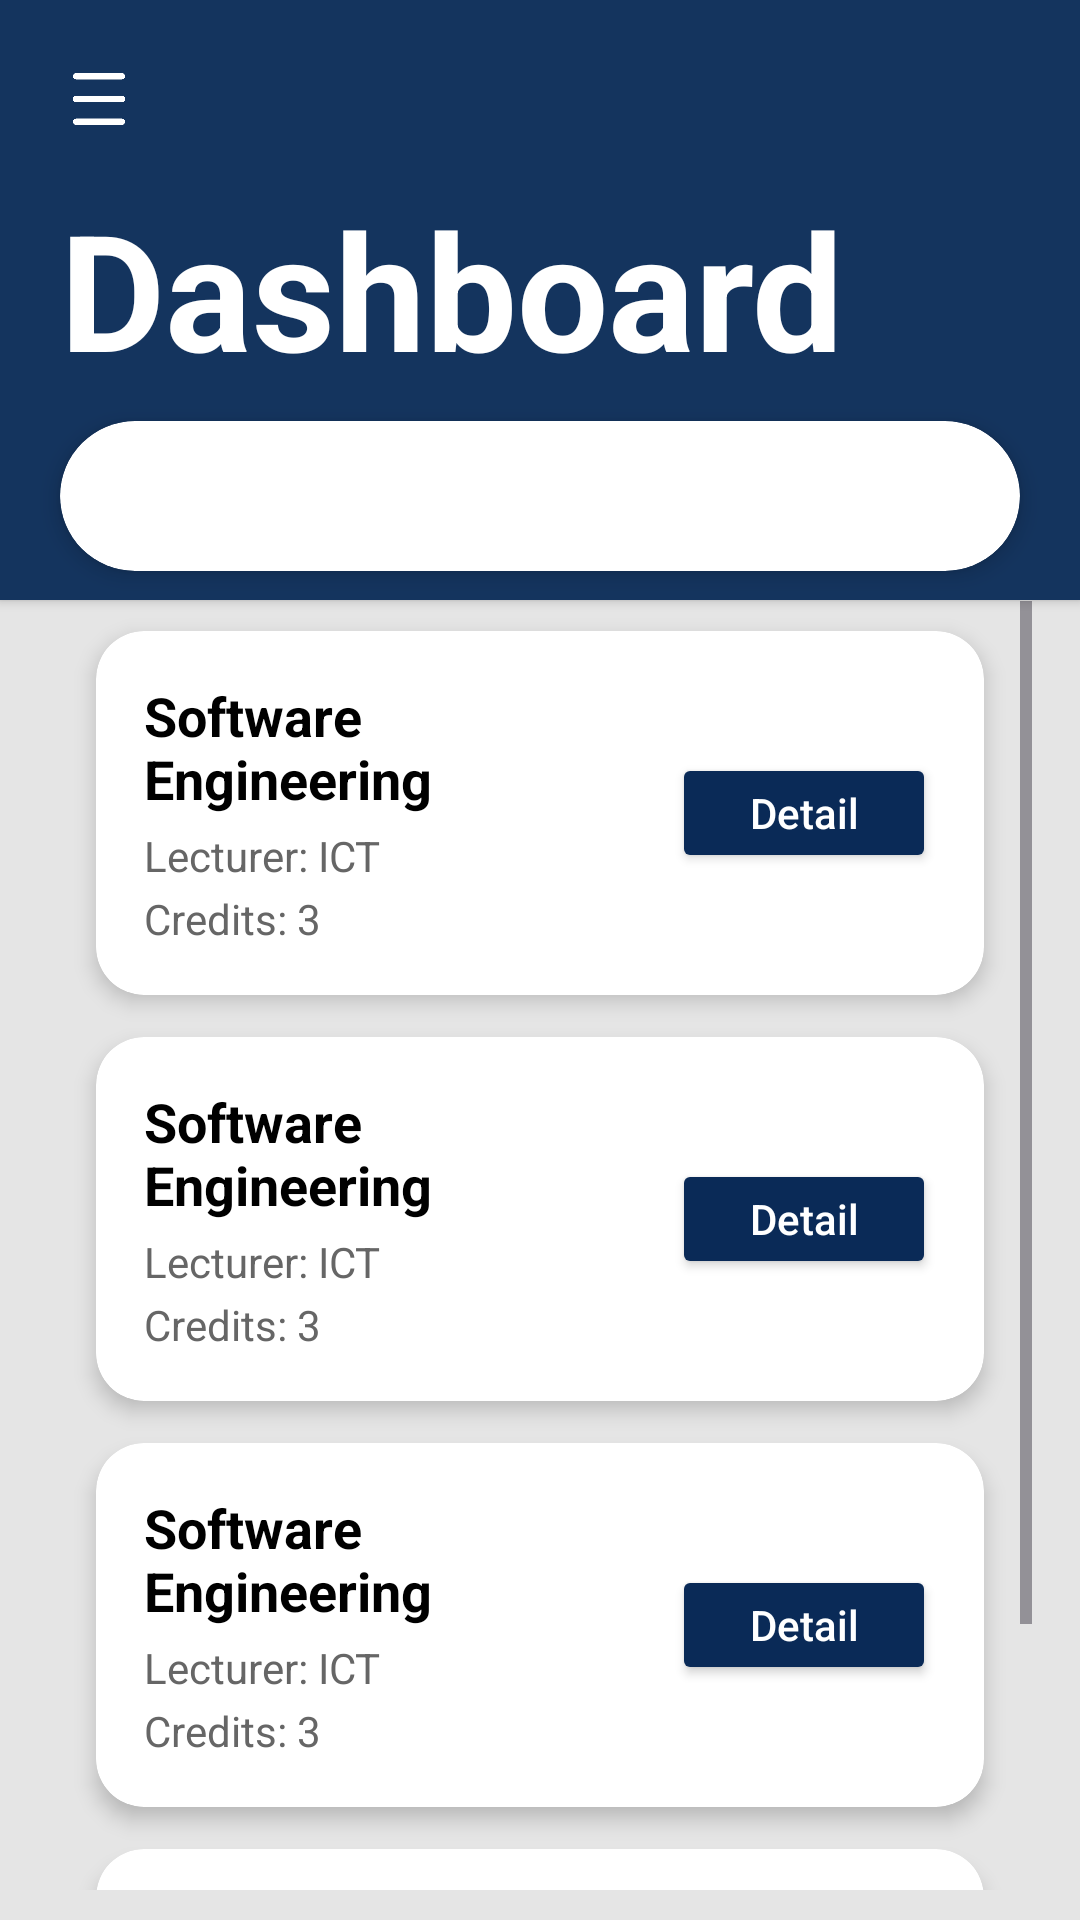

Screen size 1080px×1920px. Icon name, then its center in pixels as [x,y]:
menu: [99,99]
